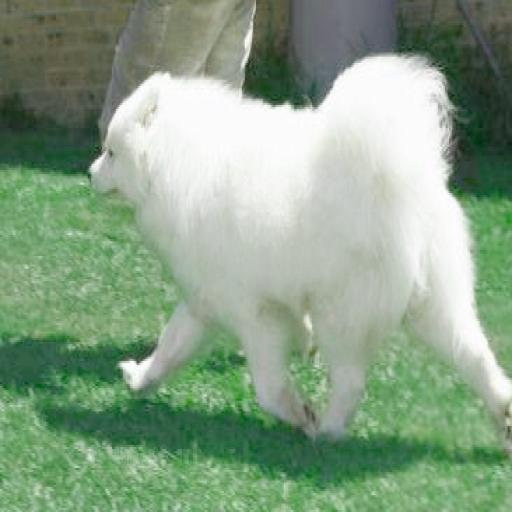dog_face: (80, 84, 173, 203)
